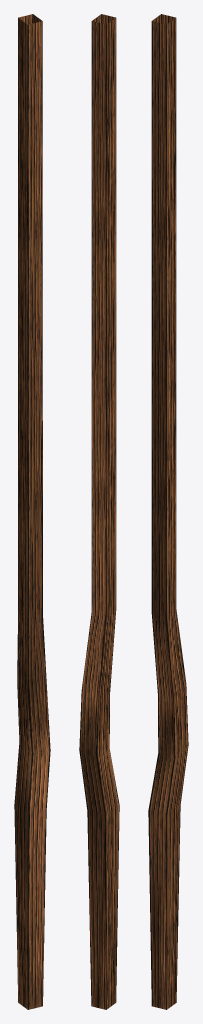
Rendered from LAKETOWN_PUB_PS_PUB_CEILING_POLE373765.fbx.
3 renders of one model, left to right at view 1: azimuth 30°, elevation 25°; view 2: azimuth 150°, elevation 25°; view 3: azimuth 330°, elevation 25°, orthographic.
Visible parts, largest first — view 1: LAKETOWN_PUB_PS_PUB_CEILING_POLE373765; view 2: LAKETOWN_PUB_PS_PUB_CEILING_POLE373765; view 3: LAKETOWN_PUB_PS_PUB_CEILING_POLE373765.
Boxes of the visible parts, x1=… form: LAKETOWN_PUB_PS_PUB_CEILING_POLE373765: x1=14, y1=14, x2=50, y2=1009; LAKETOWN_PUB_PS_PUB_CEILING_POLE373765: x1=79, y1=14, x2=119, y2=1009; LAKETOWN_PUB_PS_PUB_CEILING_POLE373765: x1=148, y1=14, x2=188, y2=1009.
Bounding box in the file's own units: 2373 × 90875 × 2665.
1 material, 1 textured.
